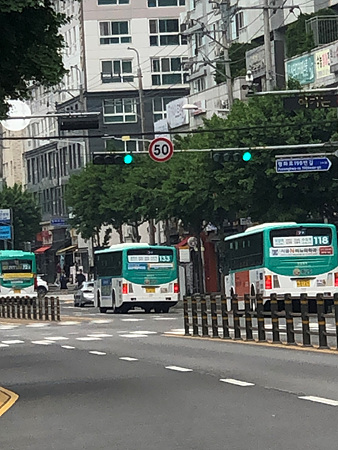bnum: (313, 234, 329, 245)
